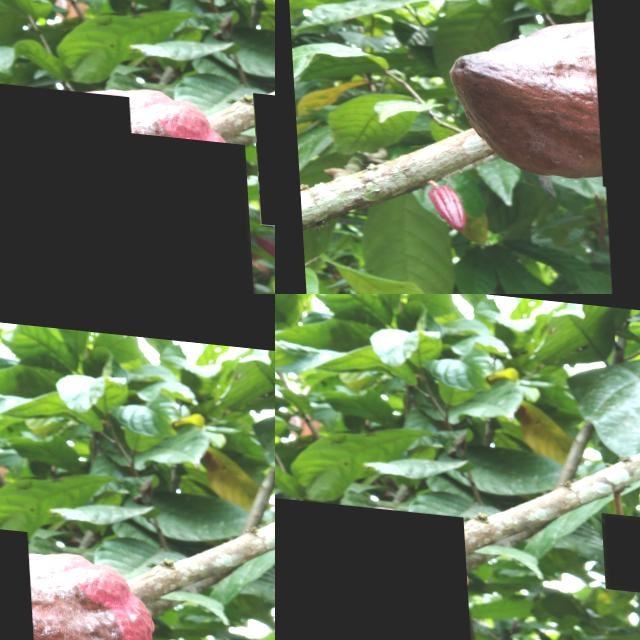Fitoftora: (77, 122, 254, 294), (275, 486, 468, 640), (0, 529, 19, 597)
Sana: (0, 77, 138, 294), (250, 83, 275, 221), (598, 500, 640, 581)
